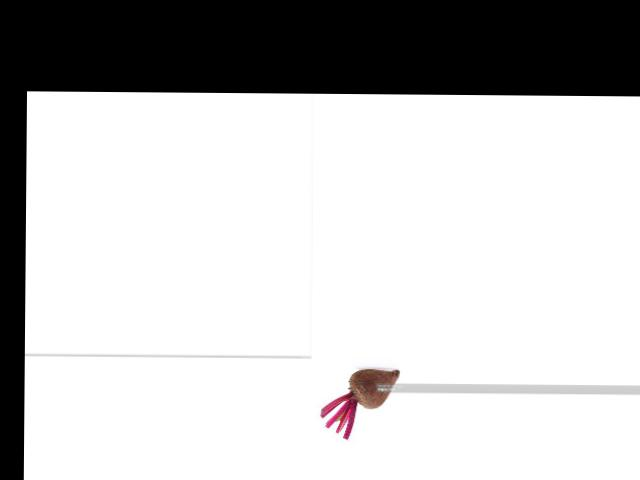beet: (320, 368, 400, 439)
